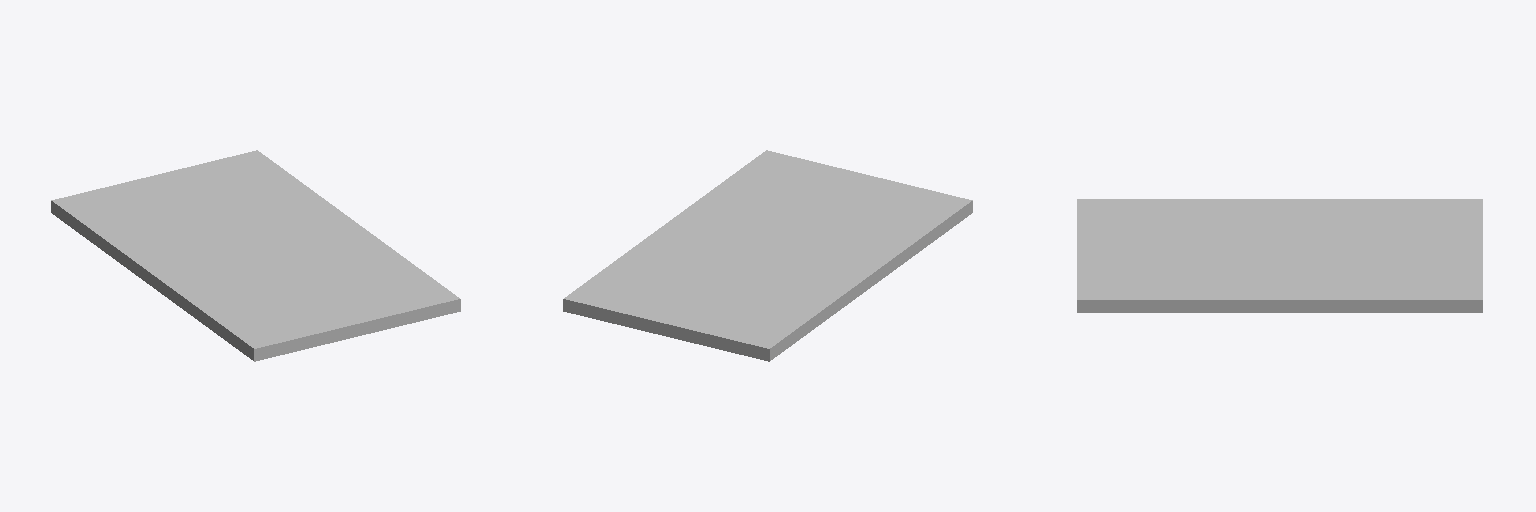
The model's file is BusDropp2.obj.
The picture shows the model from 3 angles: view 1: azimuth 30°, elevation 25°; view 2: azimuth 150°, elevation 25°; view 3: azimuth 270°, elevation 25°; orthographic projection.
Parts seen in each view (by area): view 1: Cube; view 2: Cube; view 3: Cube.
Boxes of the visible parts, x1=… form: Cube: x1=51, y1=150, x2=460, y2=361; Cube: x1=563, y1=150, x2=972, y2=361; Cube: x1=1077, y1=199, x2=1482, y2=312.
Size of the model in its own units: 34 by 2 by 58.